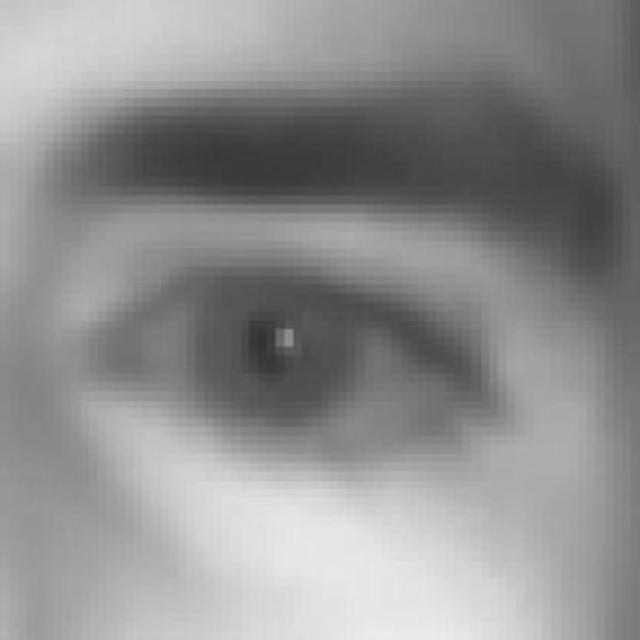awake: (99, 262, 486, 466)
